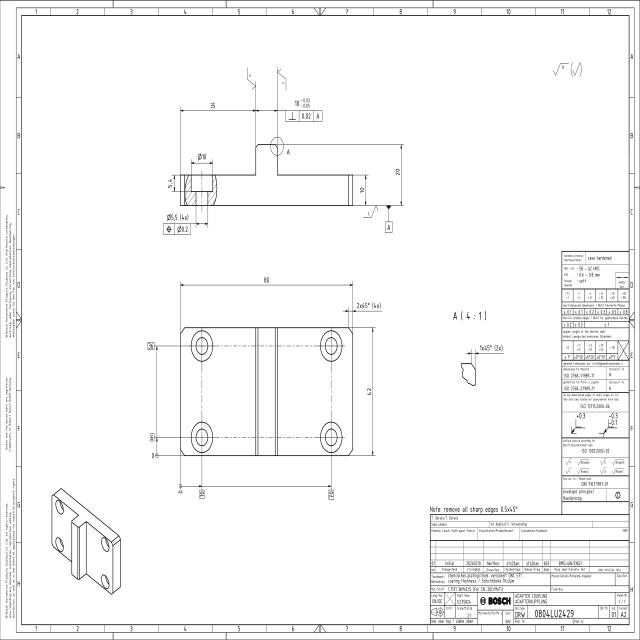dimension: (476, 341, 504, 354), (356, 300, 382, 310), (166, 212, 190, 222), (293, 97, 311, 109), (197, 151, 207, 162), (146, 341, 156, 351), (327, 488, 335, 500), (366, 386, 373, 398), (394, 167, 402, 177), (166, 177, 172, 190), (198, 488, 205, 499), (208, 101, 216, 110), (148, 432, 155, 442), (358, 186, 366, 194), (263, 275, 270, 284)
